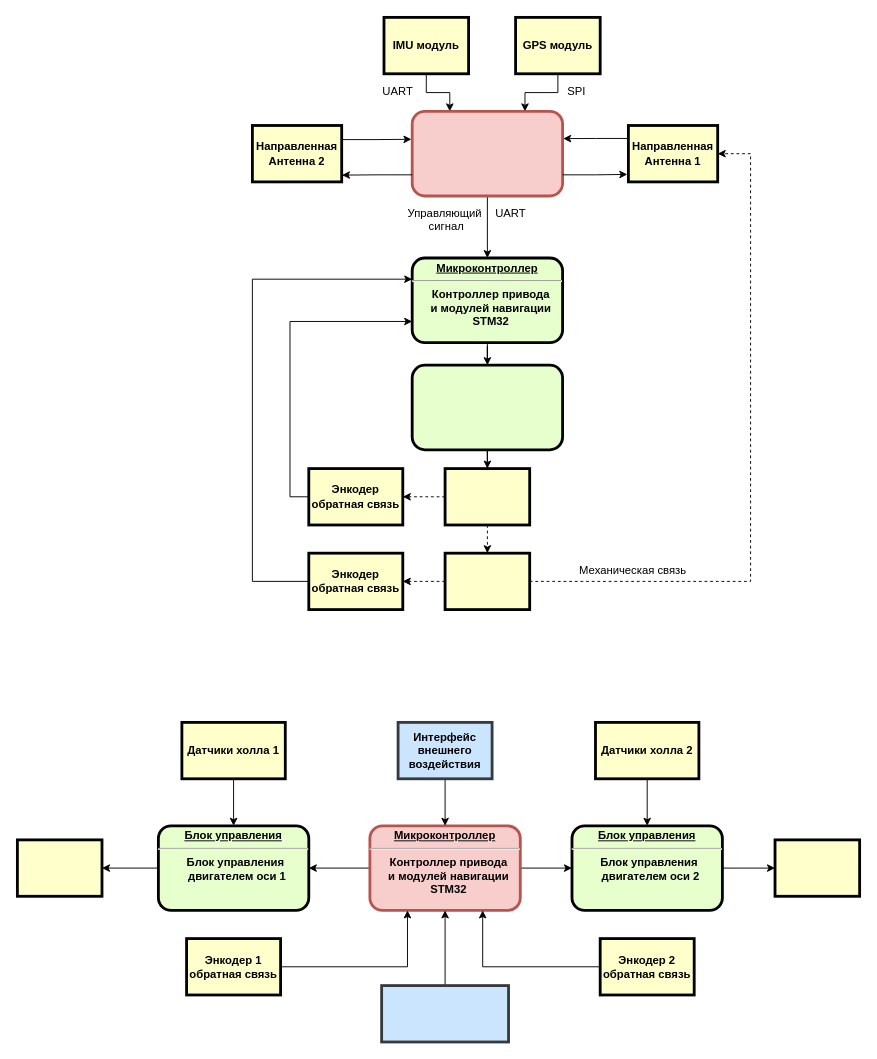
Some shapes in this 877 by 1059 pixel diagram are drawn without their labels. The shapes that lost their labels are listed below. From the top down, each one's centre as x and y in pixels, then its label:
pixel 487 153: Ретранслятор Плата приема и передачи сигнала и формирования УС
pixel 487 407: Драйвер двигателей Драйвер управления двигателями привода
pixel 487 496: Двигатель 1 оси с редуктором
pixel 487 581: Двигатель 2 оси с редуктором
pixel 59 867: Двигатель 1
pixel 817 867: Двигатель 2
pixel 444 1013: Интерфейс для отладки и программирования
